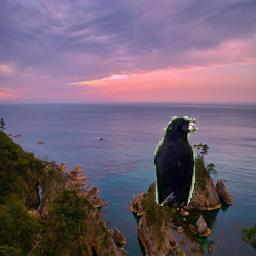Crow: (155, 116, 200, 206)
